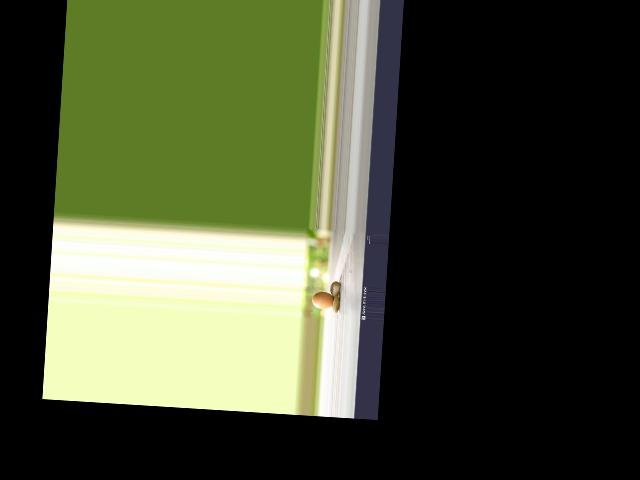egg: (312, 290, 334, 309)
